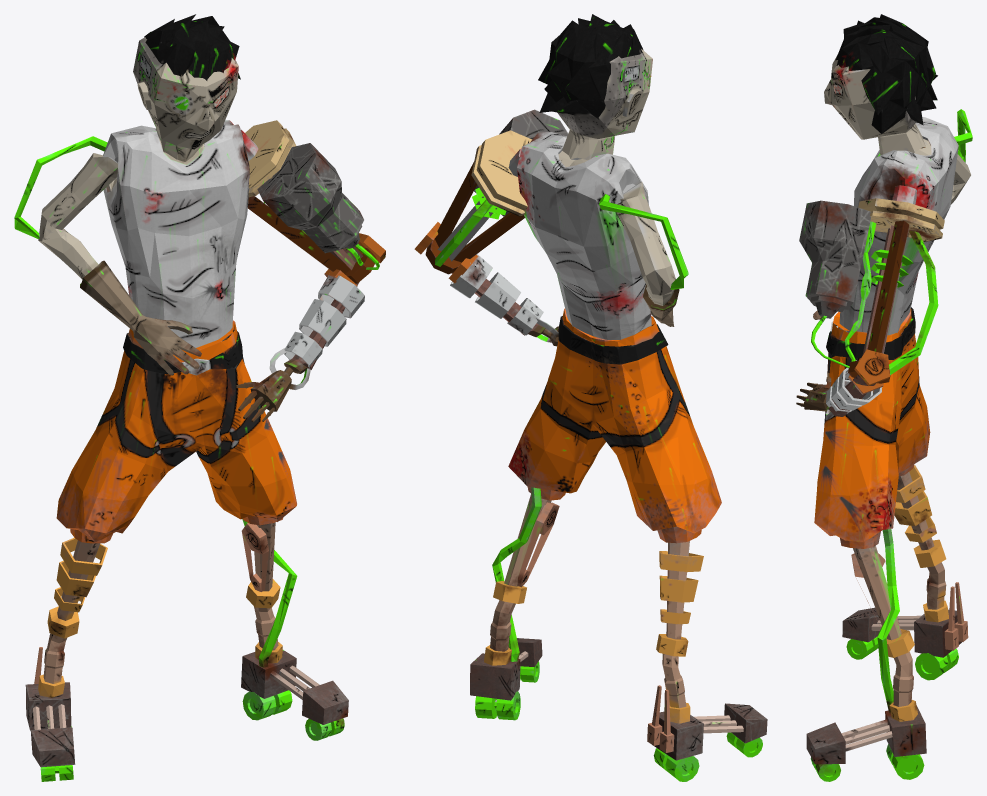
The model's file is CyborgFINALAnimation_000042.obj.
The picture shows the model from 3 angles, left to right: view 1: azimuth 30°, elevation 25°; view 2: azimuth 150°, elevation 25°; view 3: azimuth 270°, elevation 25°; orthographic projection. The views are drawn at different scales.
Parts seen in each view (by area): view 1: CyborgMesh_Cube.002; view 2: CyborgMesh_Cube.002; view 3: CyborgMesh_Cube.002.
Boxes of the visible parts, x1,y1,x2,y2 form: CyborgMesh_Cube.002: [14, 14, 385, 781]; CyborgMesh_Cube.002: [414, 14, 767, 781]; CyborgMesh_Cube.002: [796, 14, 972, 781].
Size of the model in its own units: 4.86 by 9.61 by 2.17.
